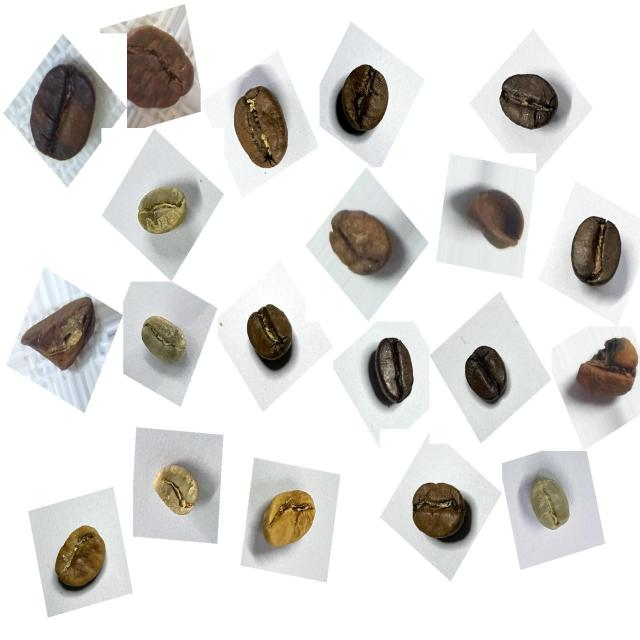bad: (20, 54, 106, 174), (114, 14, 201, 121), (18, 286, 106, 385), (321, 198, 404, 288), (460, 178, 532, 263), (570, 326, 640, 413)
dark: (560, 207, 634, 300), (489, 61, 565, 145), (359, 326, 424, 413), (458, 334, 519, 411)
green: (140, 452, 210, 532), (128, 174, 198, 251), (133, 304, 197, 378), (520, 467, 582, 542)
light: (252, 474, 329, 563), (44, 516, 117, 606)
medium: (222, 77, 302, 182), (328, 58, 400, 148), (403, 471, 478, 554), (238, 297, 304, 378)
